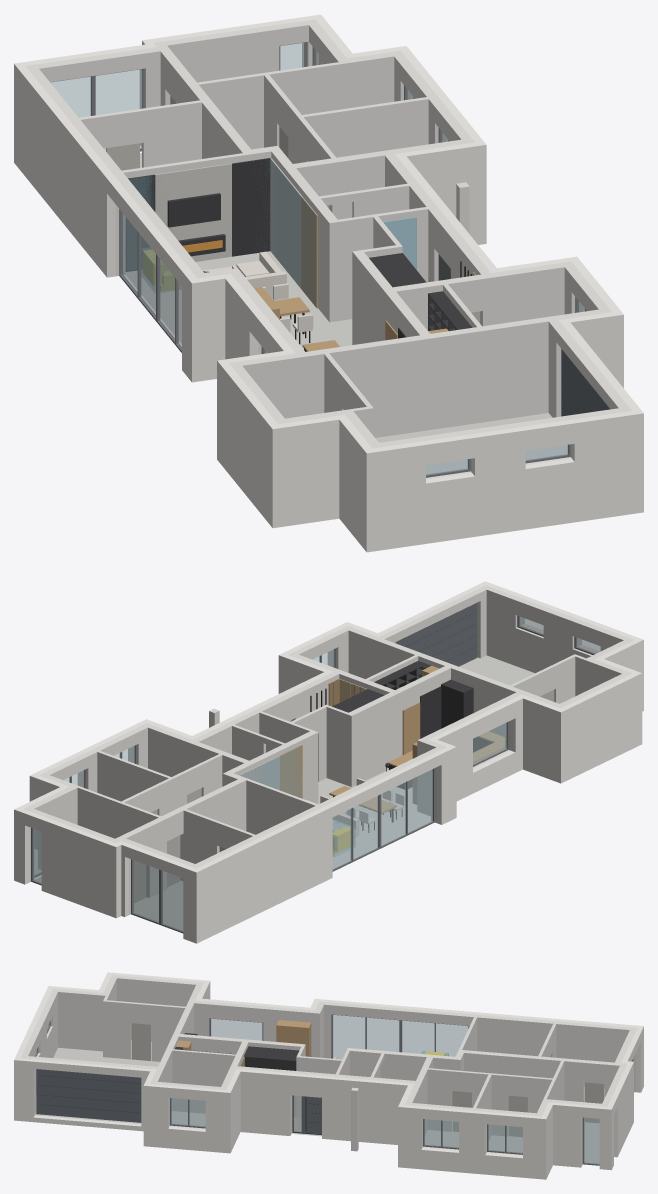
File: dom_wnetrze.glb
The picture shows the model from 3 angles, top to bottom: view 1: azimuth 30°, elevation 25°; view 2: azimuth 150°, elevation 25°; view 3: azimuth 270°, elevation 25°; orthographic projection. The views are drawn at different scales.
Parts seen in each view (by area): view 1: SCIANY_rdzenie_02, IZ_12_z_2738_3100, SCIANY_rdzenie_11, IZ_04_z_1000_1888_01, SCIANY_rdzenie_09, IZ_02_z_238_900_01, SCIANY_rdzenie_06, SCIANY_rdzenie_10, SCIANY_rdzenie_07, SCIANY_rdzenie_01, BLK_SAL_ART_WALL, SEL_TV_concrete (+40 smaller); view 2: SCIANY_rdzenie_02, IZ_12_z_2738_3100, SCIANY_rdzenie_11, SCIANY_rdzenie_06, SCIANY_rdzenie_09, SCIANY_rdzenie_10, IZ_02_z_238_900_01, IZ_04_z_1000_1888_03, IZ_04_z_1000_1888_01, DR01_brama_panel, SCIANY_rdzenie_04, W10_O7_pokoj_10_szklo (+39 smaller); view 3: SCIANY_rdzenie_02, IZ_12_z_2738_3100, SCIANY_rdzenie_06, DR01_brama_panel, SCIANY_rdzenie_11, IZ_02_z_238_900_05, W10_O7_pokoj_10_szklo, SCIANY_rdzenie_09, SCIANY_rdzenie_05, IZ_02_z_238_900_06, W09_O6_pokoj_10_szklo, IZ_01_z_0_238_01 (+52 smaller).
Part boxes in pixels (x1,y1,x2,y2): SCIANY_rdzenie_02: (229,237,611,448); IZ_12_z_2738_3100: (14,14,643,464); SCIANY_rdzenie_11: (282,130,474,322); IZ_04_z_1000_1888_01: (217,399,643,520); SCIANY_rdzenie_09: (176,36,410,149); IZ_02_z_238_900_01: (182,342,643,544); SCIANY_rdzenie_06: (26,64,280,276); SCIANY_rdzenie_10: (288,88,444,163); SCIANY_rdzenie_07: (143,25,279,108); SCIANY_rdzenie_01: (451,236,581,326); BLK_SAL_ART_WALL: (270,160,317,306); SEL_TV_concrete: (155,163,231,261); SCIANY_rdzenie_02: (316,626,633,787); IZ_12_z_2738_3100: (14,581,643,880); SCIANY_rdzenie_11: (133,705,318,803); SCIANY_rdzenie_06: (178,771,326,880); SCIANY_rdzenie_09: (39,768,166,897); SCIANY_rdzenie_10: (83,744,186,816); IZ_02_z_238_900_01: (437,690,643,819); IZ_04_z_1000_1888_03: (183,834,332,920); IZ_04_z_1000_1888_01: (510,624,643,760); DR01_brama_panel: (395,603,477,666); SCIANY_rdzenie_04: (475,585,520,665); W10_O7_pokoj_10_szklo: (381,769,432,845); SCIANY_rdzenie_02: (47,975,309,1125); IZ_12_z_2738_3100: (14,972,643,1126); SCIANY_rdzenie_06: (454,1014,637,1112); DR01_brama_panel: (36,1069,141,1122); SCIANY_rdzenie_11: (323,1048,452,1146); IZ_02_z_238_900_05: (322,1121,582,1174); W10_O7_pokoj_10_szklo: (332,1015,399,1059); SCIANY_rdzenie_09: (524,1058,584,1164); SCIANY_rdzenie_05: (263,1001,331,1058); IZ_02_z_238_900_06: (141,1113,291,1148); W09_O6_pokoj_10_szklo: (402,1020,468,1056); IZ_01_z_0_238_01: (14,1115,291,1153).
Size of the model in its own units: 16.15 by 3.1 by 29.27.
